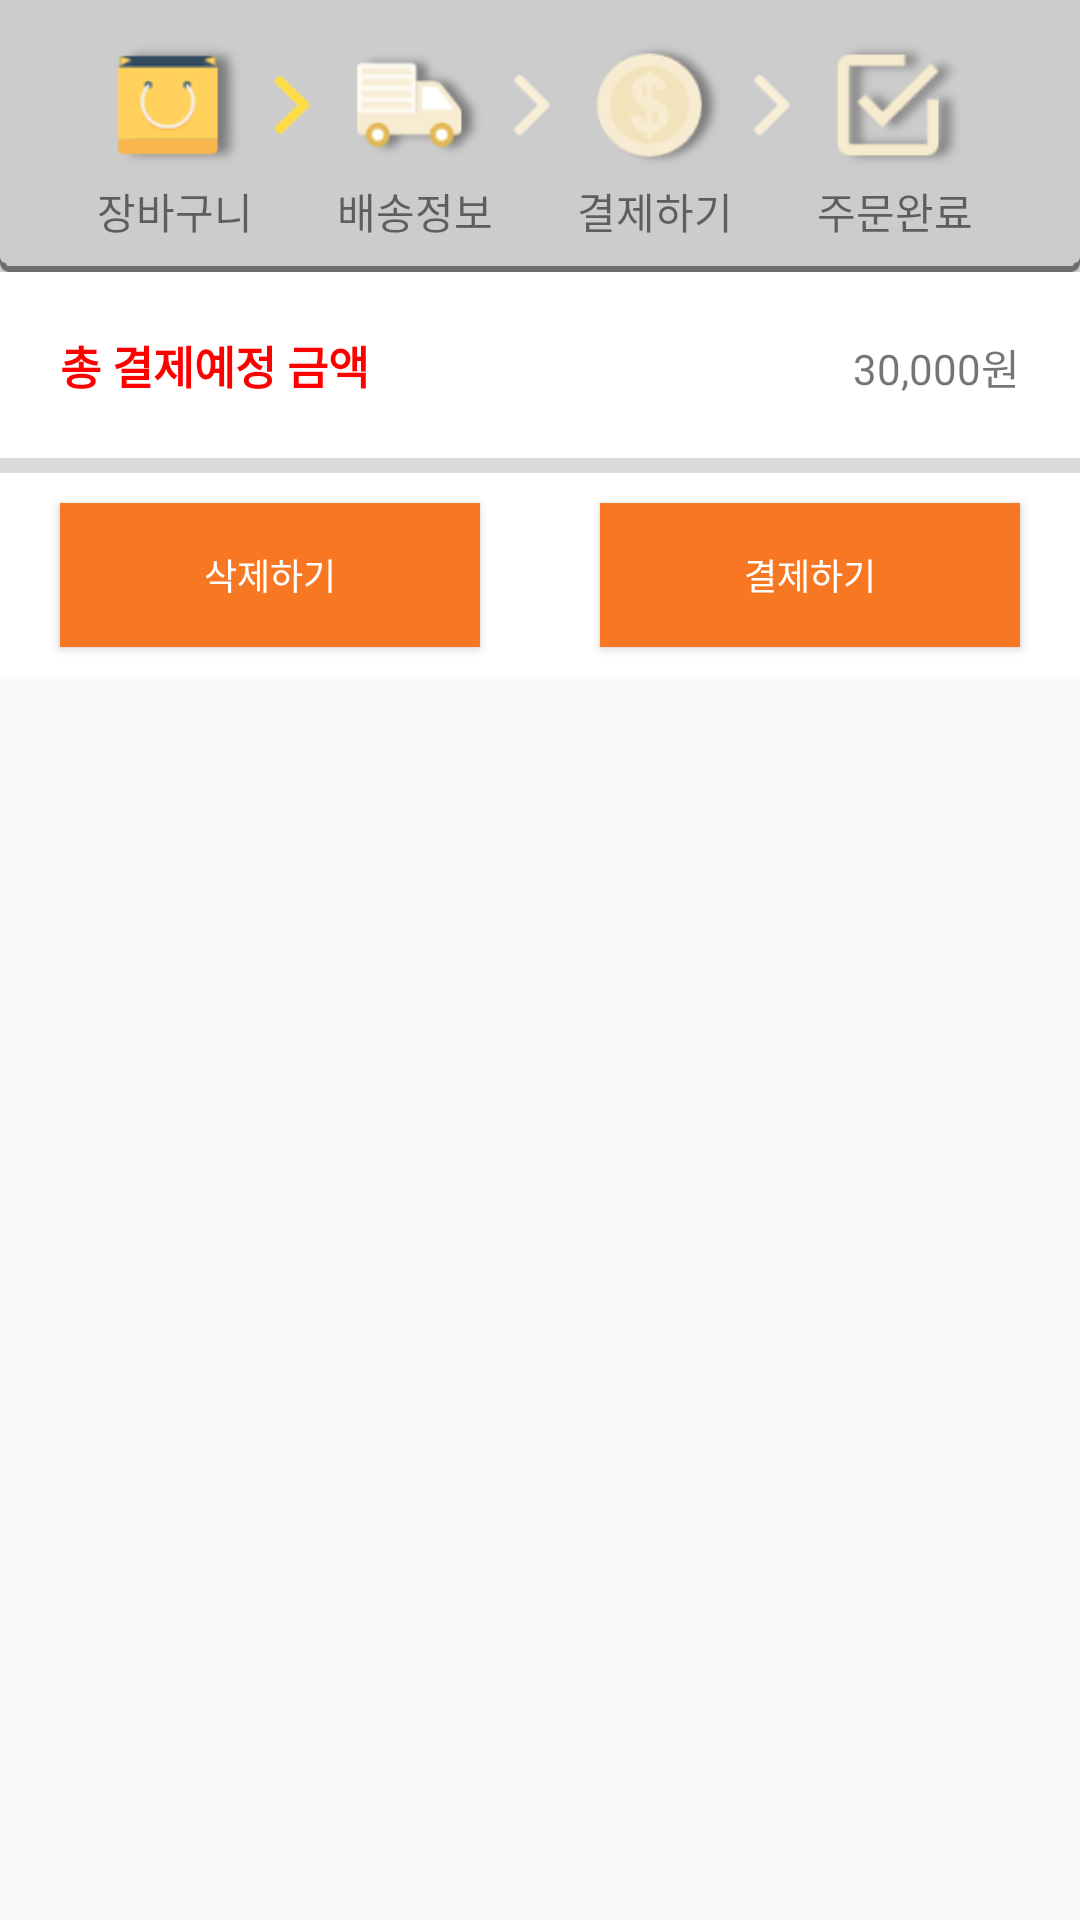

Icons on this 1080*1920 Android screen, each with its box as (x1, y1, x2, y2):
bags: (117, 53, 233, 157)
next: (515, 75, 549, 135), (755, 75, 789, 135), (274, 76, 310, 134)
truck: (357, 61, 475, 148)
